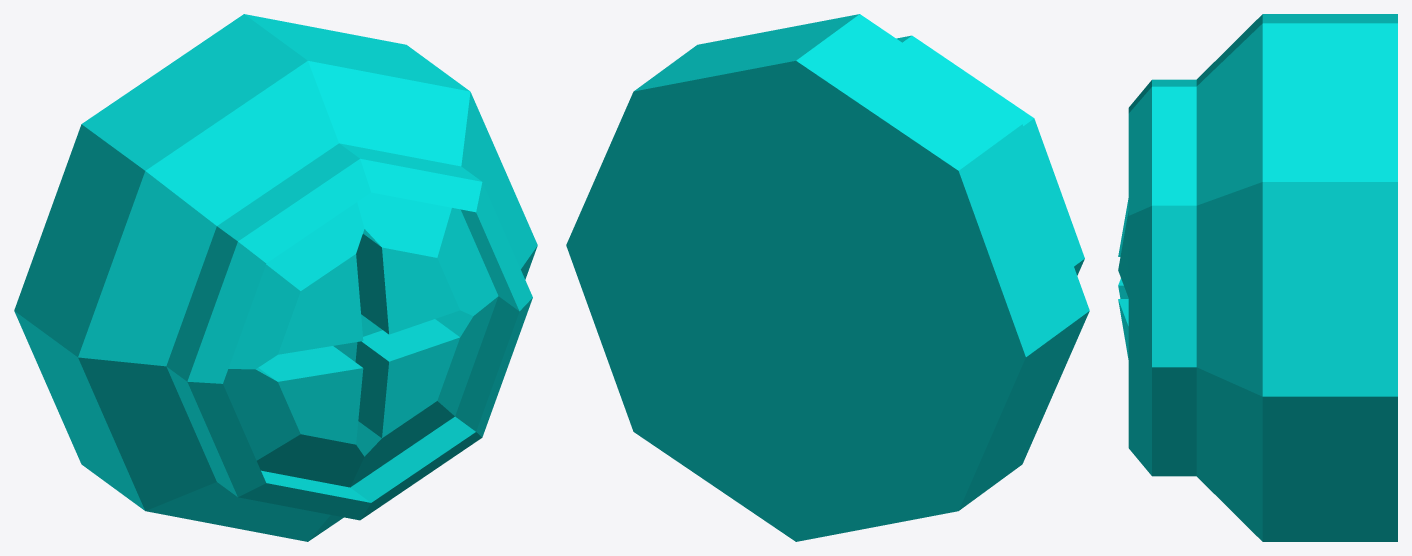
Rendered from rivet_sm.fbx.
3 renders of one model, left to right at view 1: azimuth 30°, elevation 25°; view 2: azimuth 150°, elevation 25°; view 3: azimuth 270°, elevation 25°, orthographic. The views are drawn at different scales.
Parts seen in each view (by area): view 1: rivet_sm; view 2: rivet_sm; view 3: rivet_sm.
Part boxes in pixels (<box>): rivet_sm: <box>14,14,537,541</box>; rivet_sm: <box>566,14,1089,541</box>; rivet_sm: <box>1118,14,1397,541</box>.
Size of the model in its own units: 97.2 by 97.2 by 48.4.
